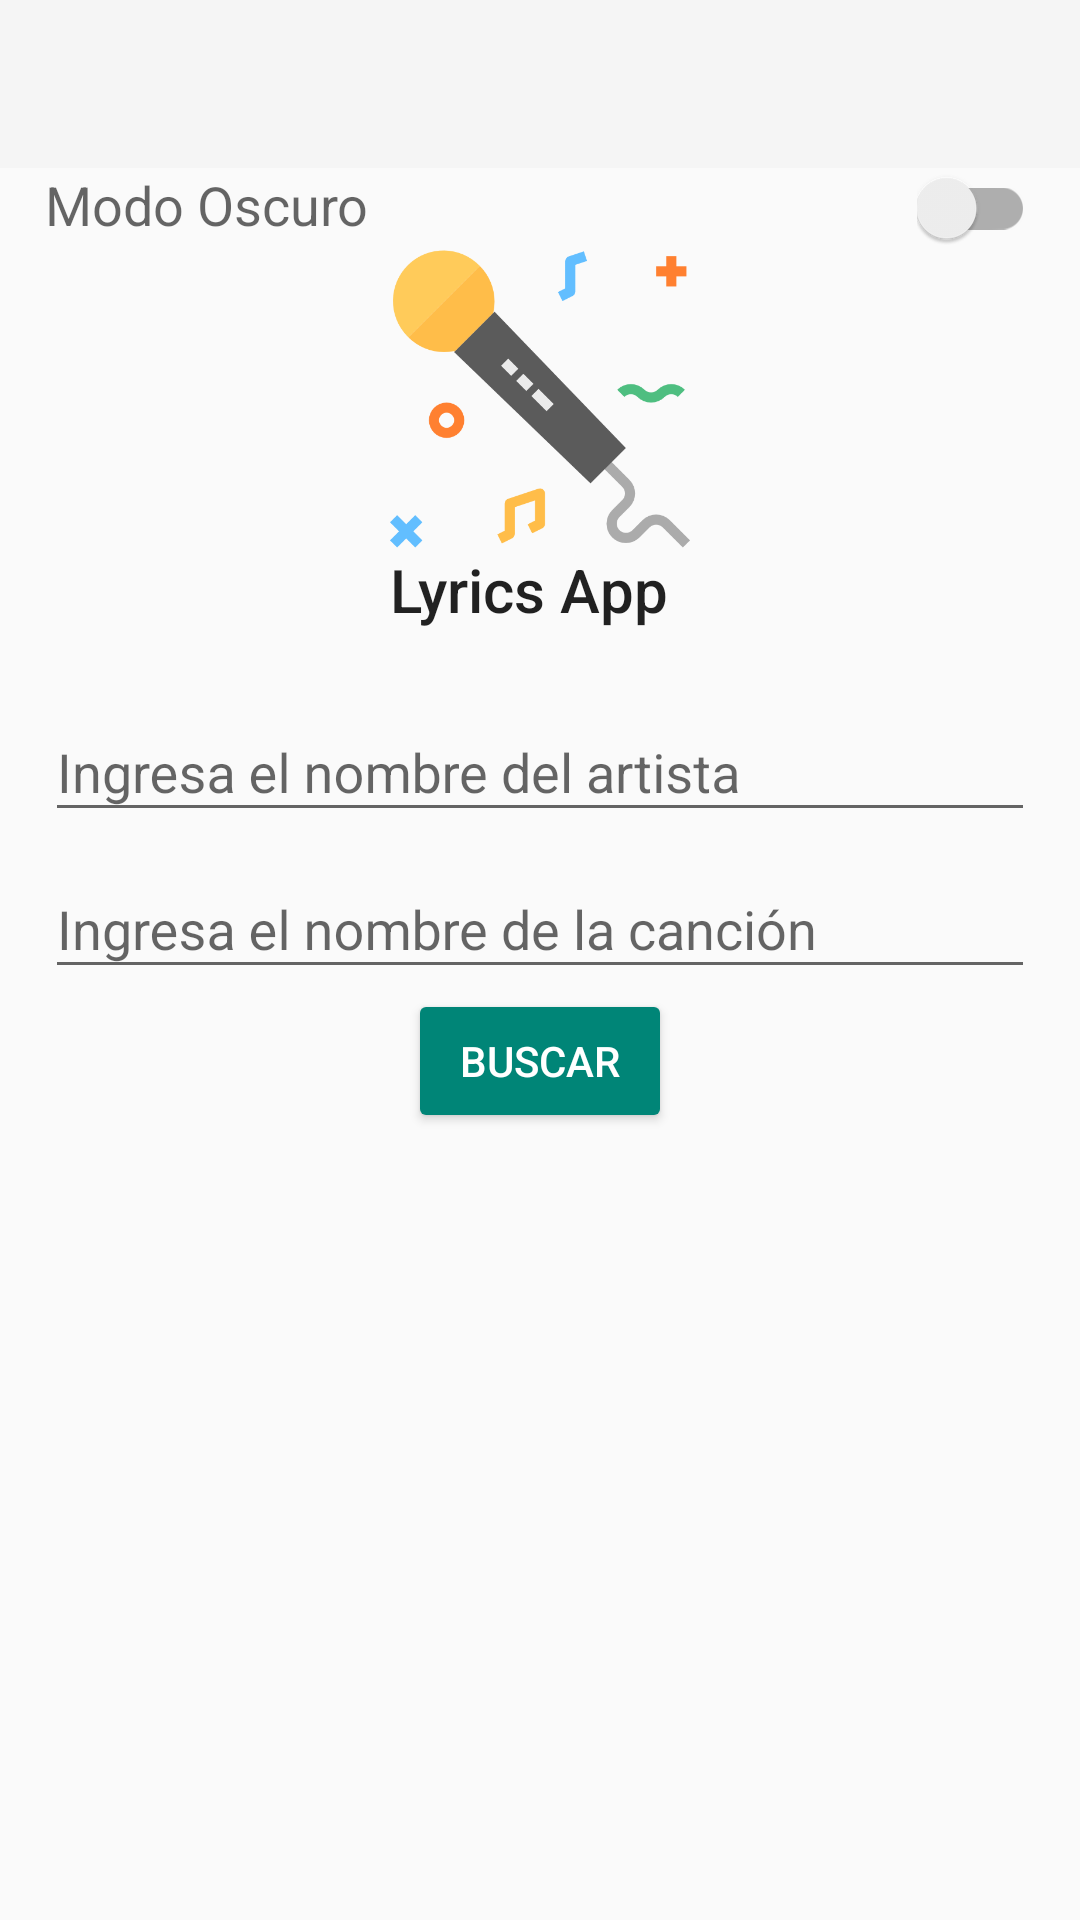

Named icons in this screenshot (1080 × 1920) and their centers, (x,y):
microphone: (540,399)
